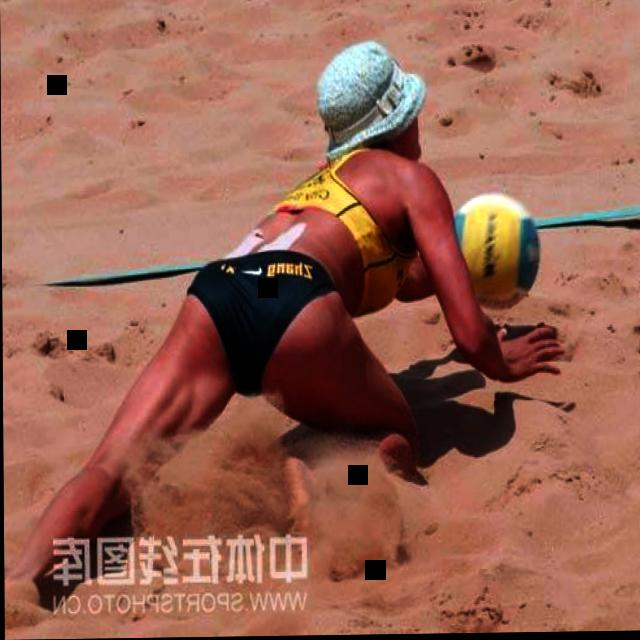Fall-Detected: (5, 43, 576, 588)
